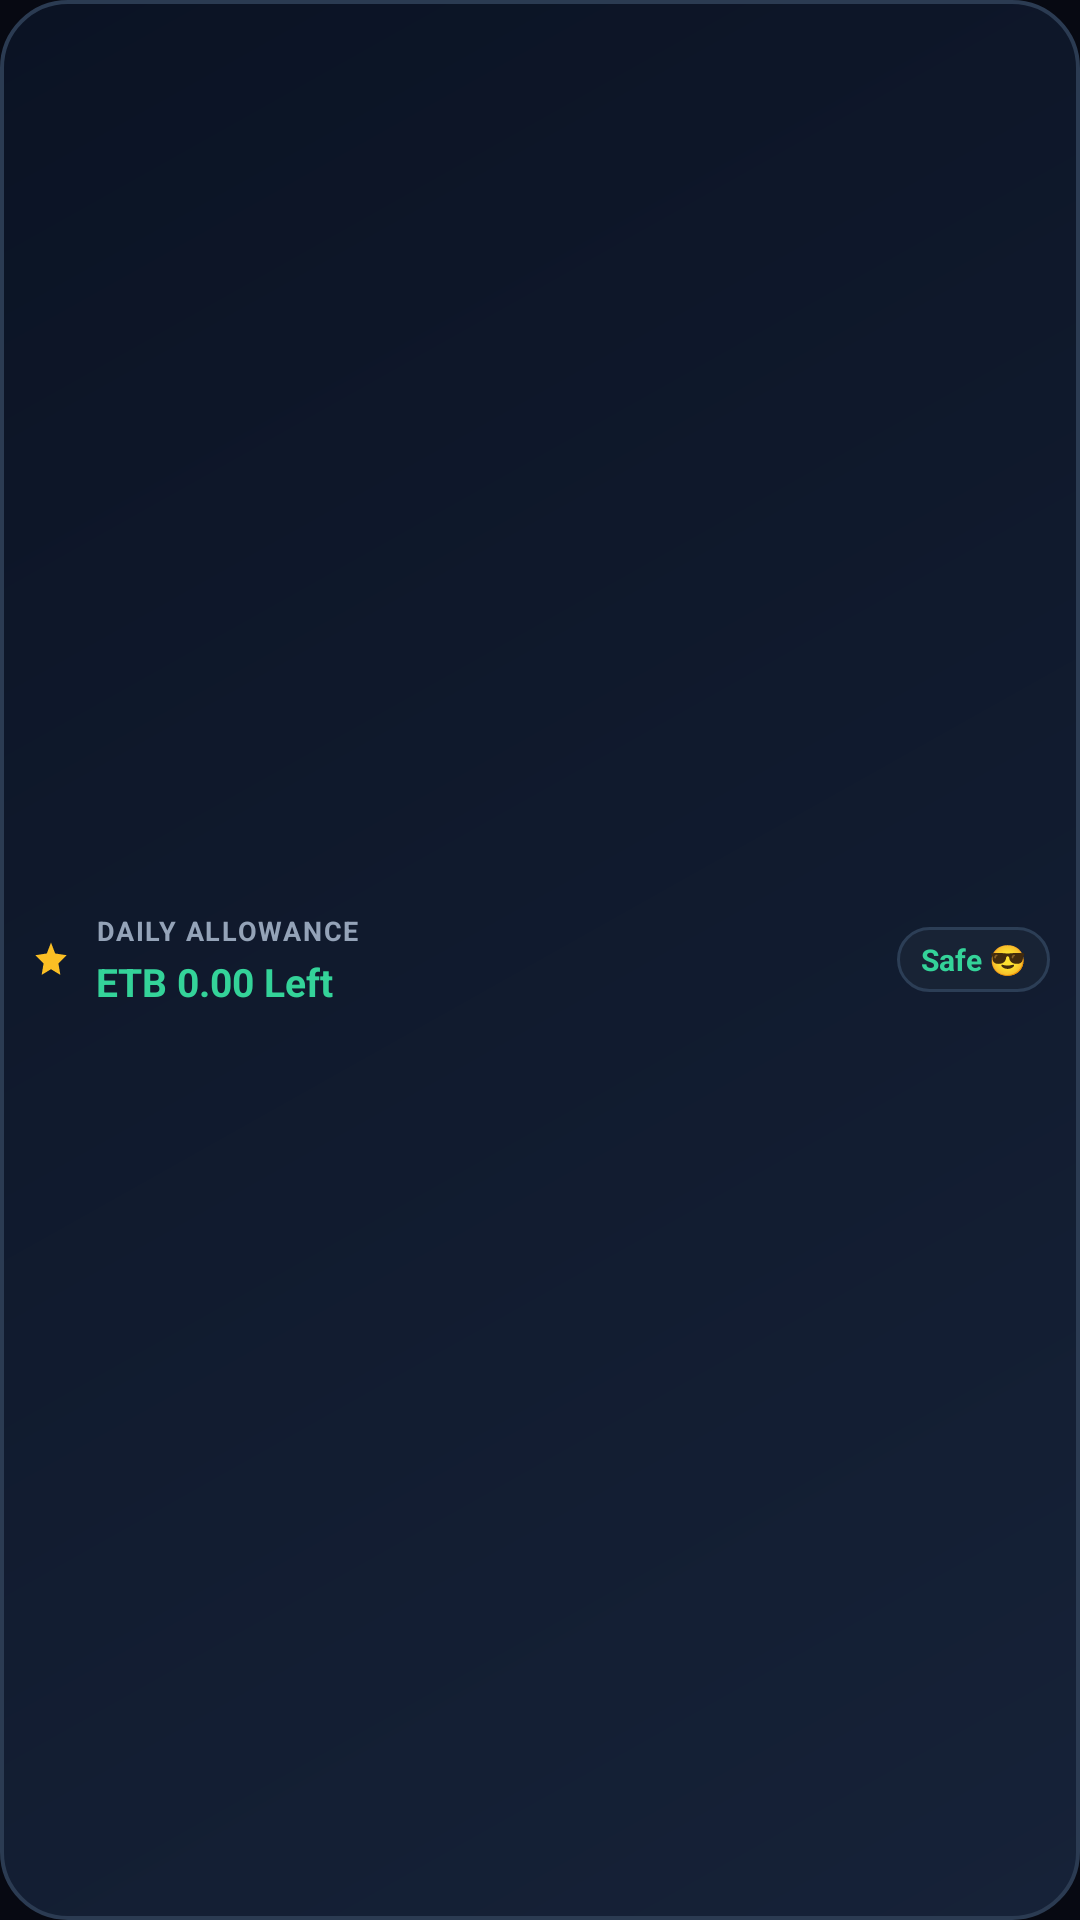

Icons on this 1080x1920 Android screen, each with its box as (x1, y1, x2, y2):
widget sparkle: (35, 943, 67, 975)
